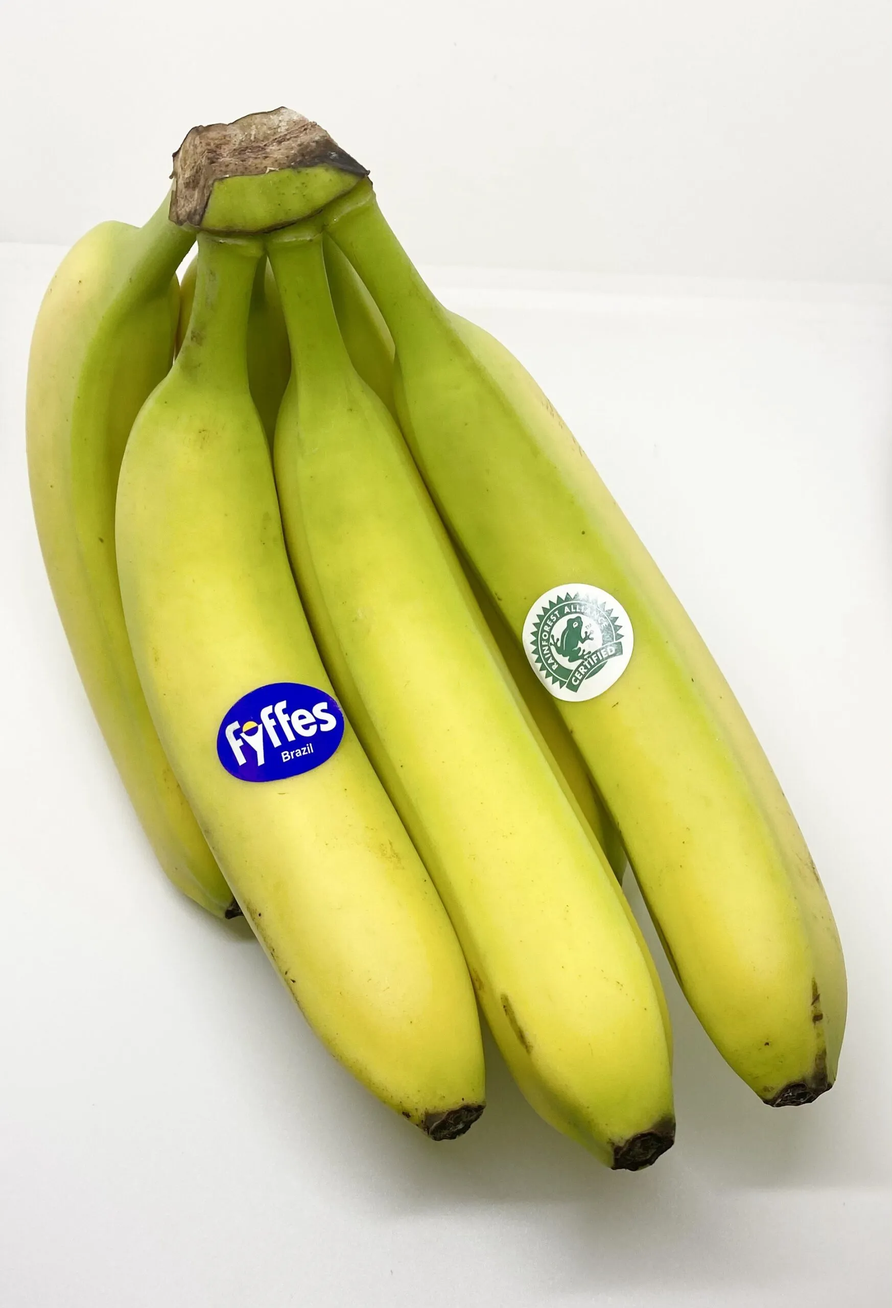banana: (31, 120, 848, 1170)
